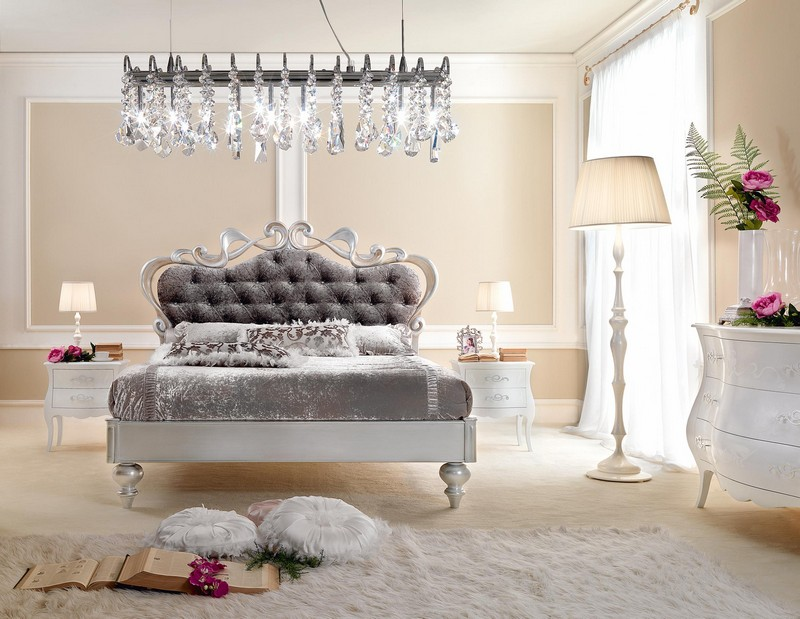bed: (105, 217, 475, 517)
lamp: (572, 149, 672, 489), (474, 279, 520, 363), (57, 279, 98, 355)
stool: (693, 317, 800, 514), (449, 358, 538, 450), (44, 357, 127, 442)
